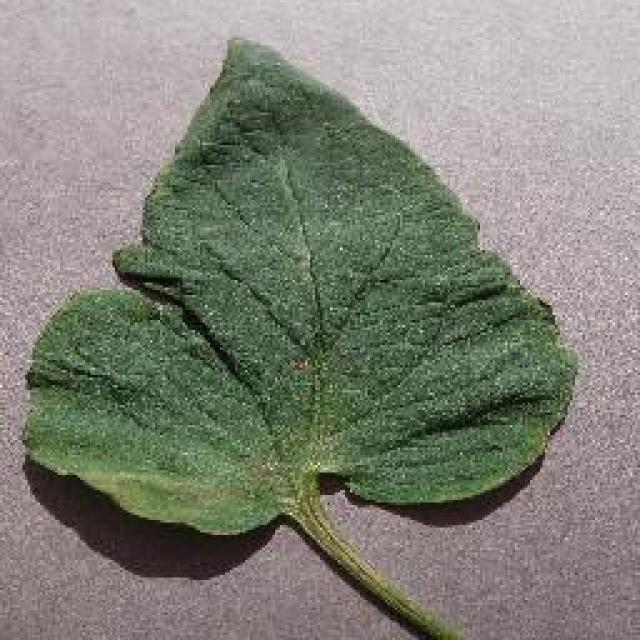Tomato___Target_Spot: (28, 40, 575, 638)
